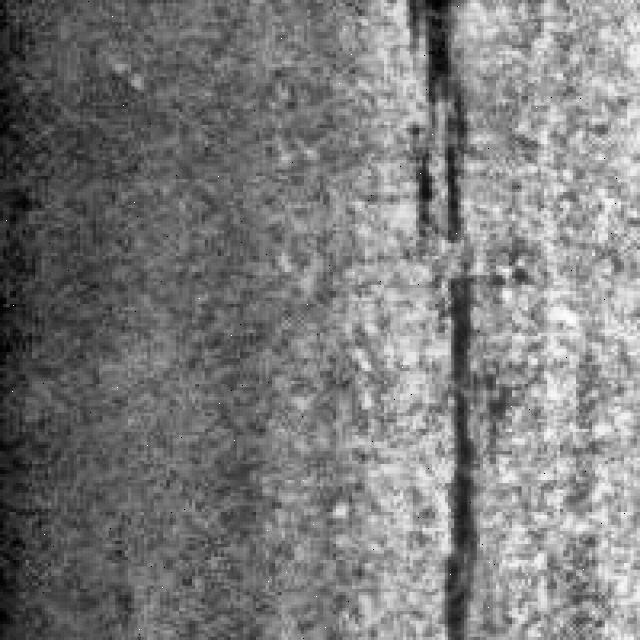Patches: (412, 218, 506, 636), (403, 0, 483, 250)
